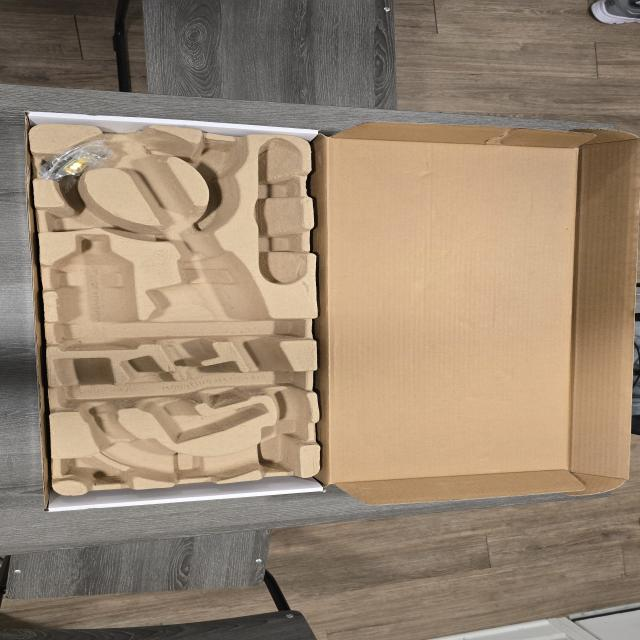1m: (57, 127, 309, 481)
2m: (123, 357, 267, 441)
3m: (52, 235, 136, 352)
4m: (252, 139, 305, 285)
5m: (196, 145, 235, 183)
6: (35, 139, 118, 177)
7m: (51, 207, 119, 231)
